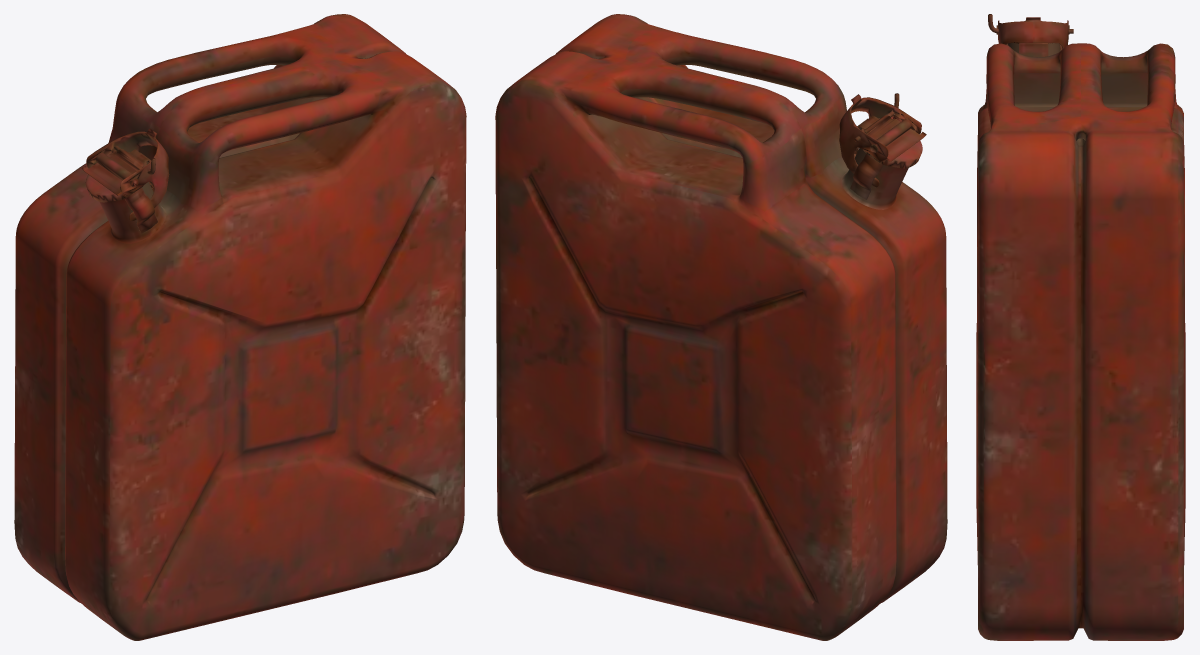
The model's file is metal_jerrycan.7ed20431.glb.
3 renders of one model, left to right at view 1: azimuth 30°, elevation 25°; view 2: azimuth 150°, elevation 25°; view 3: azimuth 270°, elevation 25°, orthographic. The views are drawn at different scales.
Visible parts, largest first — view 1: metal_jerrycan; view 2: metal_jerrycan; view 3: metal_jerrycan.
Part boxes in pixels (x1,y1,x2,y2): metal_jerrycan: [14, 14, 466, 640]; metal_jerrycan: [495, 14, 947, 640]; metal_jerrycan: [976, 14, 1185, 640].
Size of the model in its own units: 0.7696 by 1 by 0.3774.
1 material, 1 textured.
